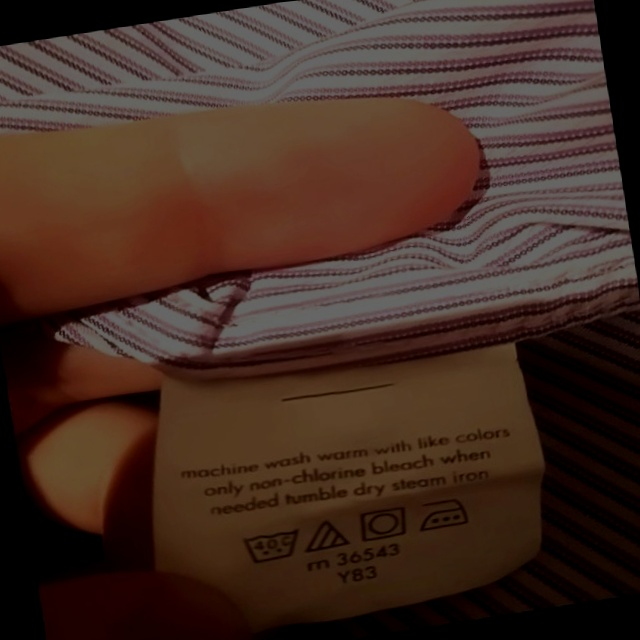40C: (240, 523, 306, 570)
iron_high: (416, 492, 476, 535)
non_chlorine_bleach: (301, 515, 352, 557)
tumble_dry_normal: (357, 504, 414, 545)
